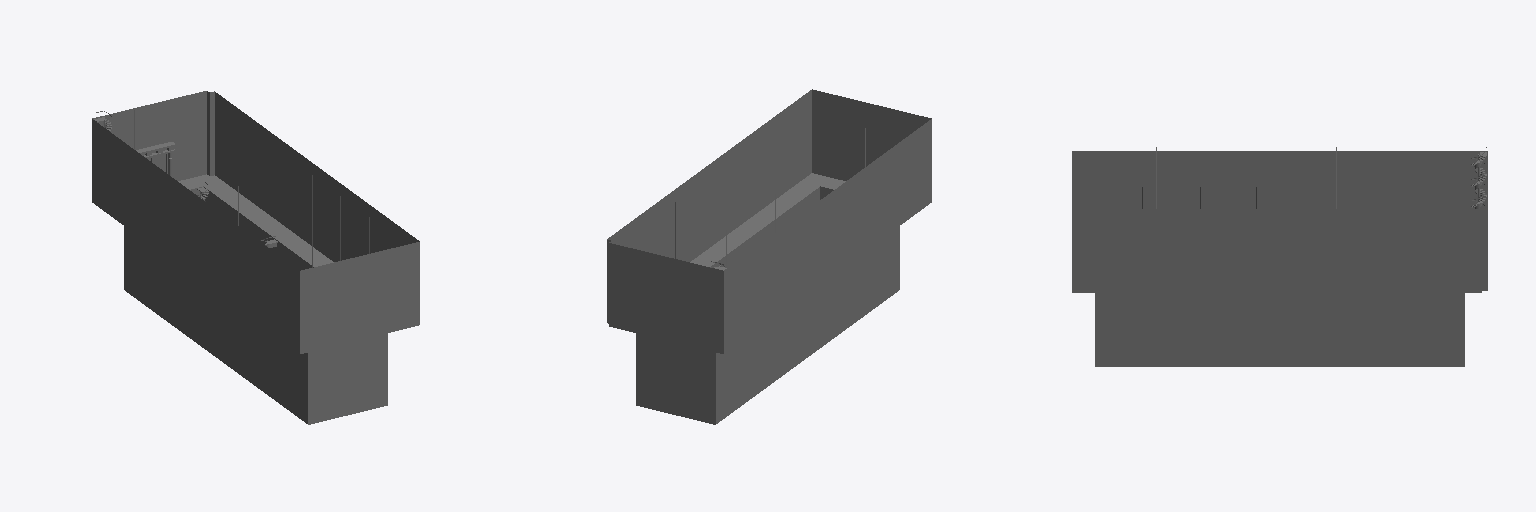
Rendered from room.obj.
The picture shows the model from 3 angles: view 1: azimuth 30°, elevation 25°; view 2: azimuth 150°, elevation 25°; view 3: azimuth 270°, elevation 25°; orthographic projection.
Parts seen in each view (by area): view 1: カスタム少女_mesh_カスタム少女; view 2: カスタム少女_mesh_カスタム少女; view 3: カスタム少女_mesh_カスタム少女.
Part boxes in pixels (x1,y1,x2,y2): カスタム少女_mesh_カスタム少女: (92,91,419,424); カスタム少女_mesh_カスタム少女: (607,89,931,424); カスタム少女_mesh_カスタム少女: (1072,147,1487,366).
Size of the model in its own units: 23.06 by 33.62 by 69.19.